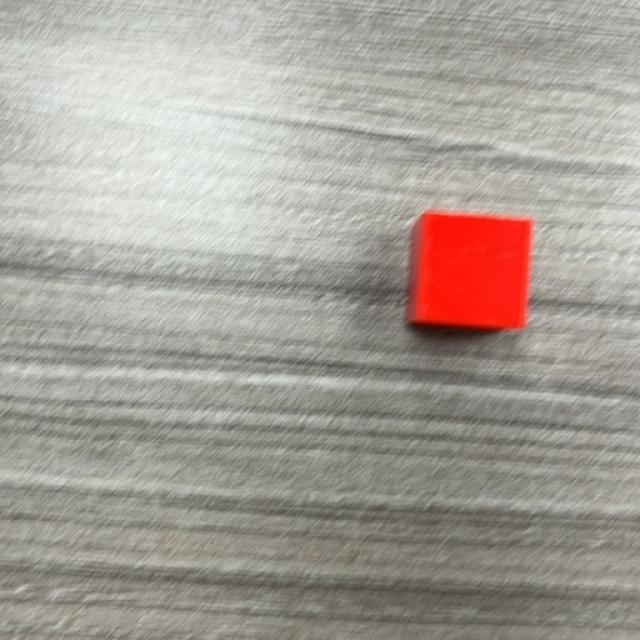Rojo: (405, 211, 534, 329)
